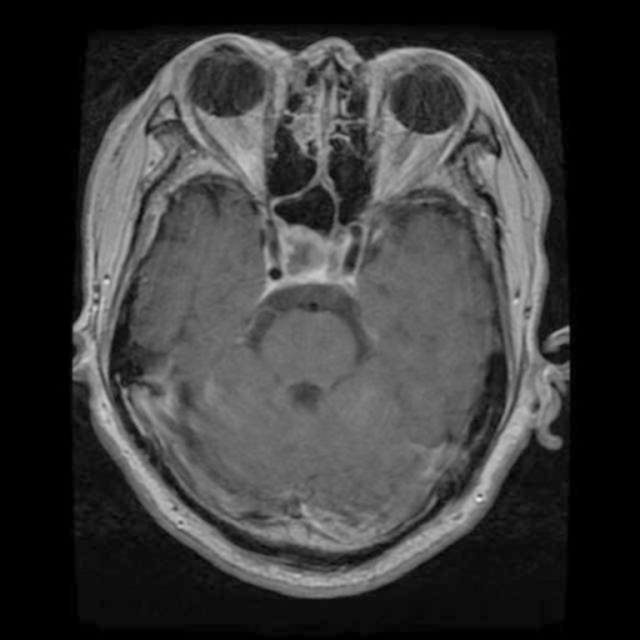no tumor: (273, 222, 372, 292)
